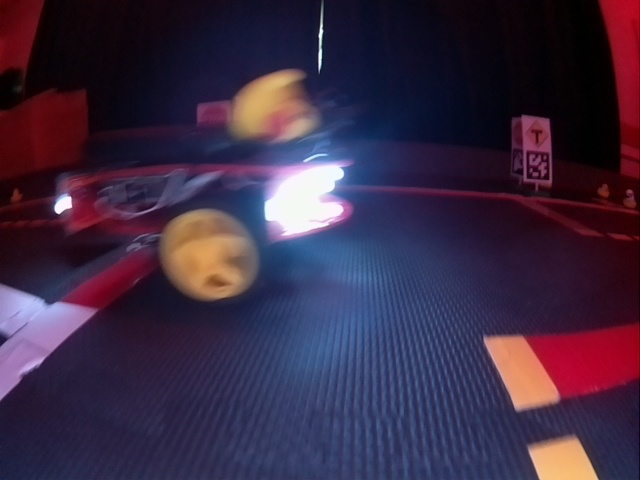Duckie: (228, 71, 318, 141), (620, 190, 635, 207), (600, 186, 608, 198)
Duckiebot: (57, 133, 351, 302)
Intersection sign: (525, 119, 549, 147)
QR code: (525, 152, 551, 182)
